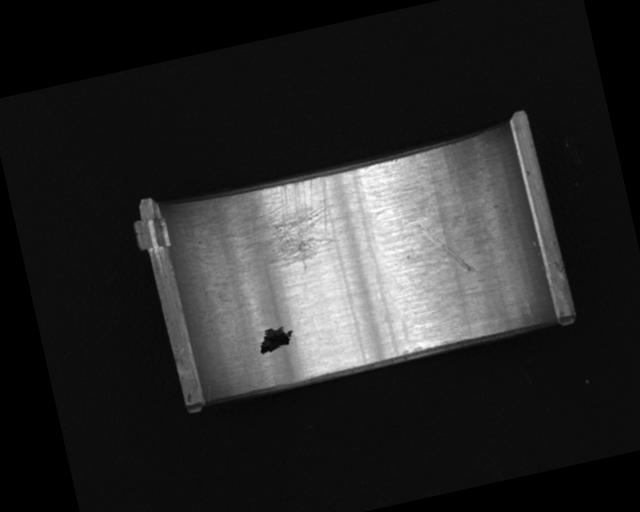blot: (254, 322, 298, 356)
nick: (419, 214, 476, 281)
scratch: (204, 171, 342, 288)
